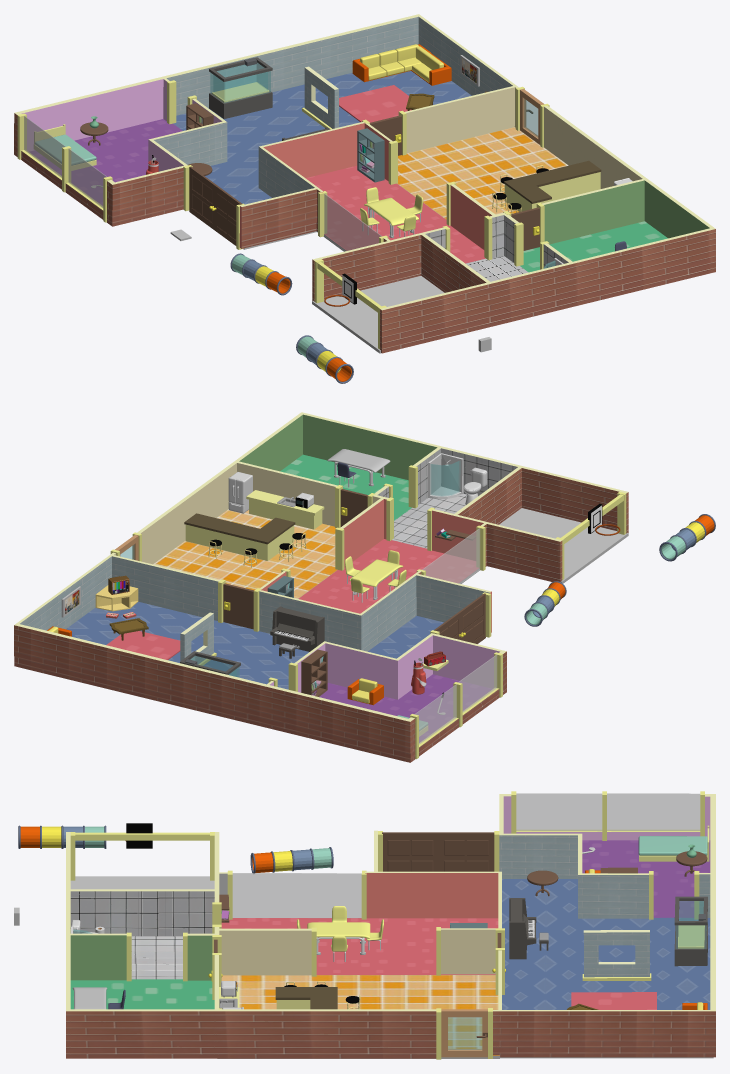
Rendered from House2.fbx.
The picture shows the model from 3 angles, top to bottom: view 1: azimuth 30°, elevation 25°; view 2: azimuth 150°, elevation 25°; view 3: azimuth 270°, elevation 25°; orthographic projection. The views are drawn at different scales.
Visible parts, largest first — view 1: pCube47, pCube94, pCube79, pCube80, pCube81, pCube78, pCube84, pCube107, pCube82, pCube85, pCube93, pCube26 (+13 smaller); view 2: pCube47, pCube94, pCube79, pCube80, pCube81, pCube78, pCube107, pCube84, pCube82, pCube74 (×2), pCube85, pCube83 (+13 smaller); view 3: pCube94, pCube47, pCube79, pCube80, pCube81, pCube85, pCube78, pCube76, pCube82, pCube77, pCube92, pCube83 (+19 smaller).
Part boxes in pixels (box(x1,y1,x2,y2)): pCube47: box(14, 14, 518, 248); pCube94: box(312, 106, 715, 353); pCube79: box(173, 71, 471, 249); pCube80: box(397, 127, 568, 219); pCube81: box(305, 165, 485, 263); pCube78: box(29, 119, 182, 205); pCube84: box(312, 276, 444, 353); pCube107: box(504, 160, 601, 211); pCube82: box(520, 221, 667, 272); pCube85: box(324, 193, 381, 251); pCube93: box(339, 85, 411, 122); pCube26: box(210, 62, 270, 102); pCube47: box(14, 552, 506, 762); pCube94: box(137, 412, 628, 581); pCube79: box(23, 602, 443, 726); pCube80: box(153, 509, 337, 598); pCube81: box(298, 539, 479, 613); pCube78: box(273, 674, 492, 761); pCube107: box(184, 513, 295, 560); pCube84: box(488, 508, 628, 583); pCube82: box(280, 454, 411, 520); pCube74 (×2): box(223, 489, 368, 629); pCube85: box(422, 528, 479, 583); pCube83: box(392, 494, 467, 548); pCube94: box(66, 832, 436, 1058); pCube47: box(365, 794, 715, 1057); pCube79: box(500, 879, 713, 1058); pCube80: box(217, 975, 499, 1058); pCube81: box(221, 918, 498, 974); pCube85: box(232, 873, 361, 917); pCube78: box(582, 840, 710, 917); pCube76: box(607, 793, 700, 830); pCube82: box(70, 979, 214, 1009); pCube77: box(516, 793, 602, 831); pCube92: box(583, 930, 649, 977); pCube83: box(131, 936, 182, 979).
Bounding box in the file's own units: 38.64 × 4.66 × 51.78.
